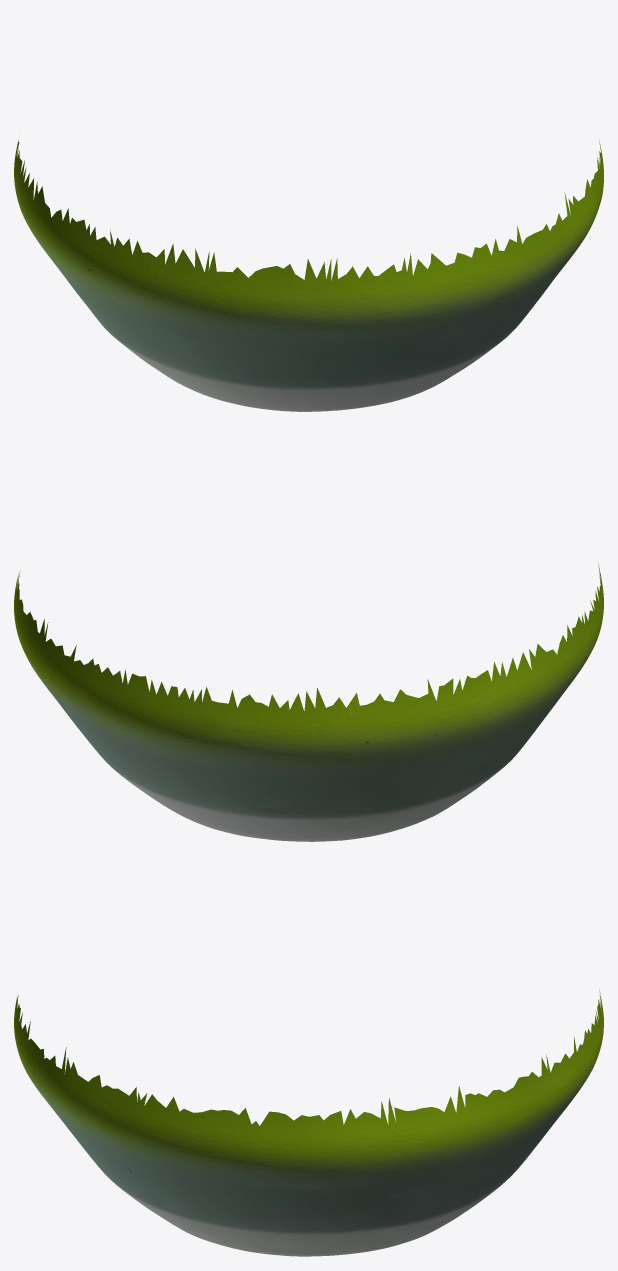
Rendered from matcha_base.glb.
The picture shows the model from 3 angles, top to bottom: view 1: azimuth 30°, elevation 25°; view 2: azimuth 150°, elevation 25°; view 3: azimuth 270°, elevation 25°; orthographic projection.
Parts seen in each view (by area): view 1: matcha_base; view 2: matcha_base; view 3: matcha_base.
Boxes of the visible parts, left/top/right/bottom form: matcha_base: left=14, top=140, right=603, bottom=411; matcha_base: left=14, top=563, right=603, bottom=841; matcha_base: left=14, top=990, right=603, bottom=1256.
Bounding box in the file's own units: 0.8463 × 0.3426 × 0.8652.
1 material, 1 textured.
